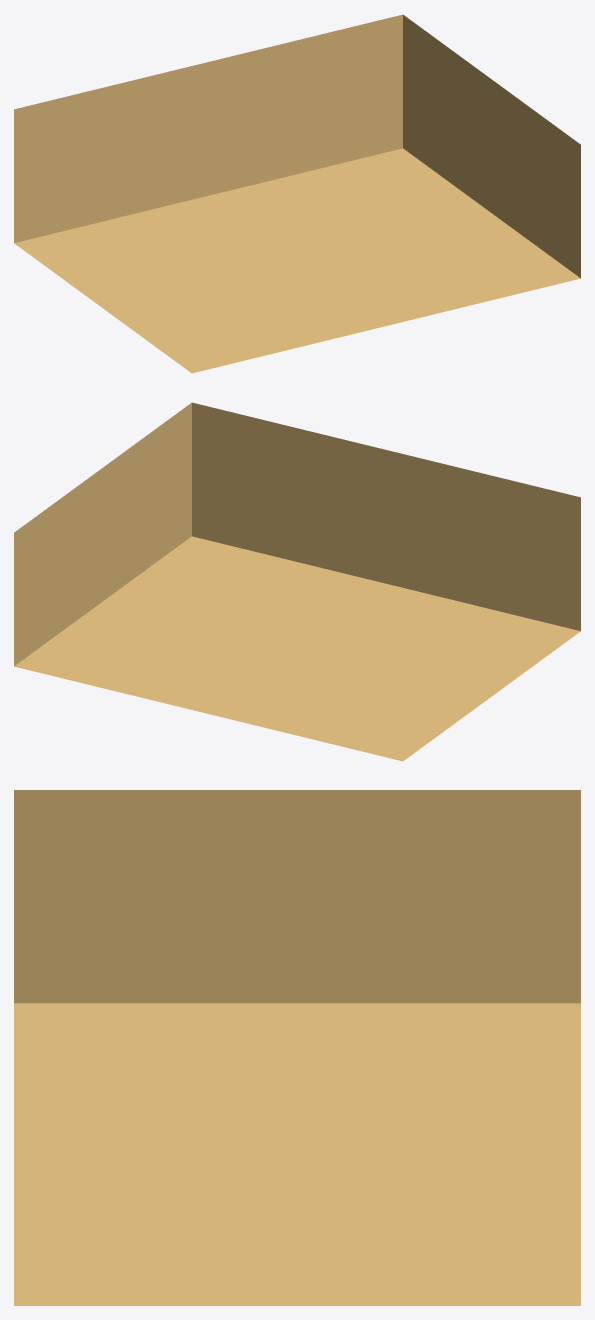
The model's file is templates-sci-fi-galactic-portal-004.glb.
3 views of the same model, one above another, from view 1: azimuth 30°, elevation 25°; view 2: azimuth 150°, elevation 25°; view 3: azimuth 270°, elevation 25° (orthographic). The views are drawn at different scales.
Visible parts, largest first — view 1: Sci-Fi Galactic Portal Templates; view 2: Sci-Fi Galactic Portal Templates; view 3: Sci-Fi Galactic Portal Templates.
Part boxes in pixels (x1=…): Sci-Fi Galactic Portal Templates: x1=14, y1=14, x2=580, y2=373; Sci-Fi Galactic Portal Templates: x1=14, y1=402, x2=580, y2=761; Sci-Fi Galactic Portal Templates: x1=14, y1=790, x2=580, y2=1305.
Bounding box in the file's own units: 5.05 × 1.66 × 4.
